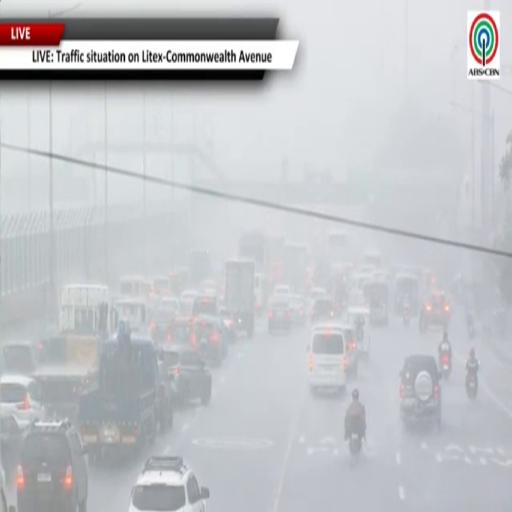car: (17, 421, 88, 511), (129, 457, 209, 511), (159, 346, 211, 405), (400, 355, 441, 426), (307, 326, 348, 392), (0, 375, 46, 429), (313, 323, 359, 377), (194, 315, 228, 364), (151, 297, 179, 342), (113, 298, 149, 332), (420, 292, 451, 331), (346, 307, 369, 359), (2, 341, 37, 375), (364, 279, 389, 325), (394, 272, 420, 315), (166, 317, 197, 349), (268, 297, 291, 333), (219, 307, 239, 342), (311, 297, 336, 323), (192, 294, 218, 317), (307, 287, 327, 316), (180, 290, 198, 315), (152, 275, 172, 297), (290, 295, 305, 324), (273, 284, 291, 296)
motorcycle: (440, 352, 452, 379), (349, 432, 362, 456), (466, 373, 477, 399), (403, 306, 410, 326), (420, 315, 427, 333), (468, 324, 474, 340)
truck: (78, 322, 173, 458), (32, 284, 115, 418), (225, 260, 254, 338), (238, 230, 269, 274), (282, 243, 308, 293), (189, 249, 212, 285)
